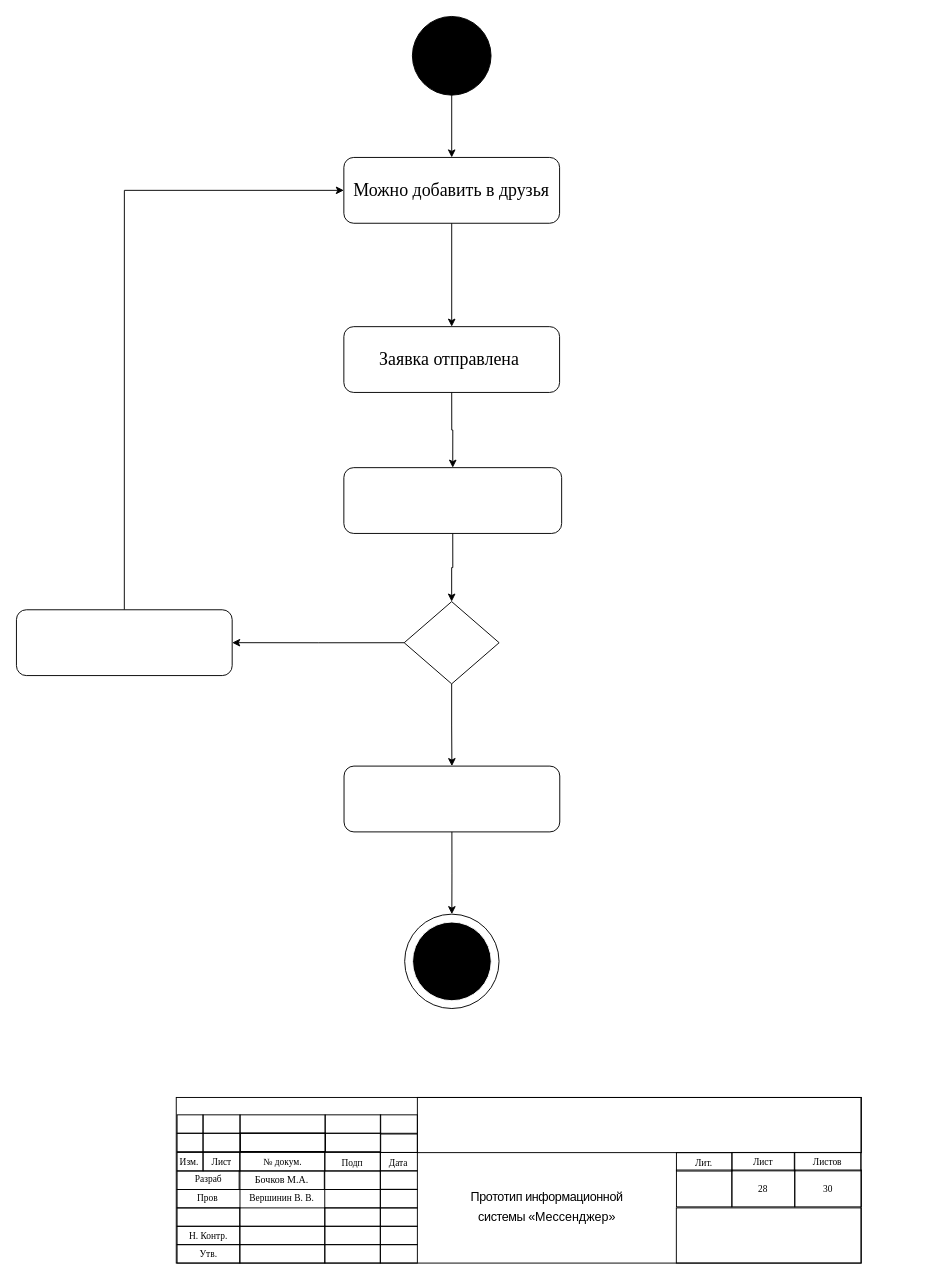
This 926x1280 diagram has some shape labels left out. Here are the shapes that lost their labels. From the top down, the box of each, then its label:
(343, 467, 562, 533): Заявка получена другим пользователем
(16, 609, 232, 676): Заявка отклонена
(343, 765, 560, 832): Заявка принята
(416, 1097, 861, 1153): ВлГУ.09.03.04.05 Чертеж №2
(675, 1207, 861, 1263): ПРИ-120
